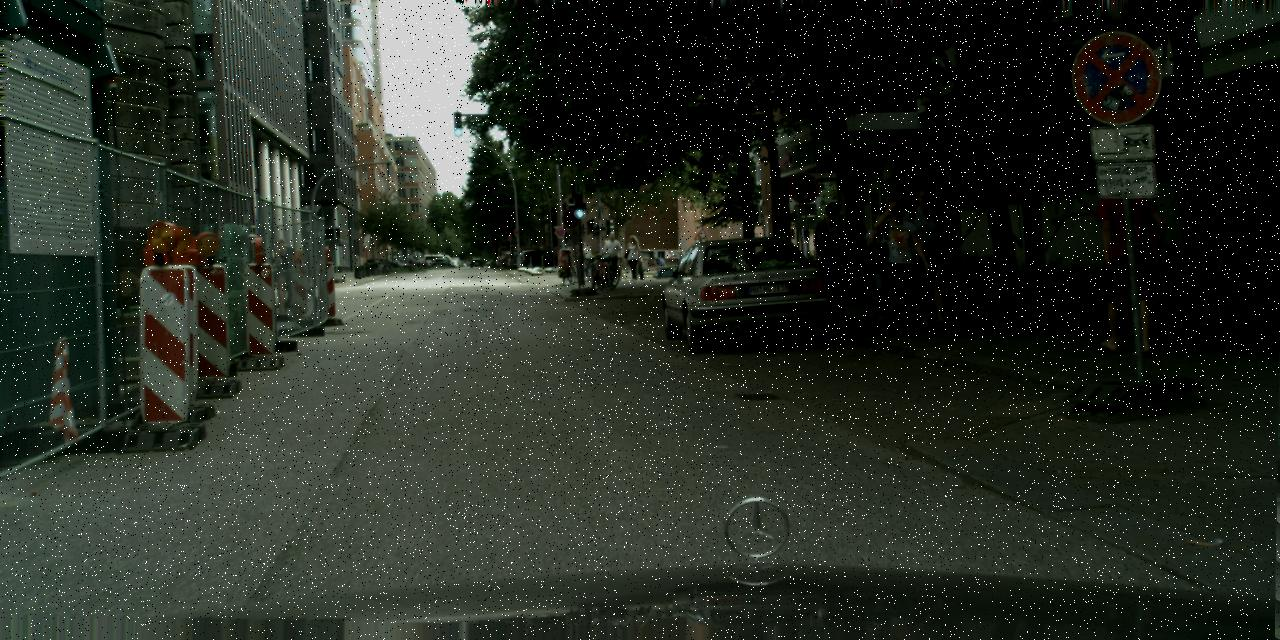ped: (1082, 158, 1162, 353), (900, 185, 959, 329), (870, 199, 925, 335), (809, 200, 860, 327), (860, 212, 906, 324), (622, 234, 642, 282), (600, 232, 619, 279), (575, 242, 589, 278)
